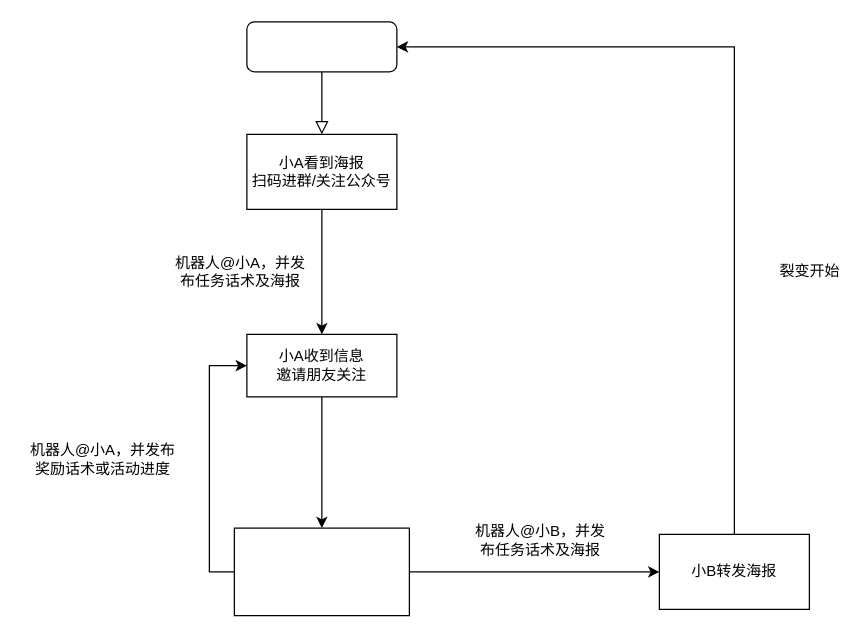
Some shapes in this 868 by 638 pixel diagram are drawn without their labels. Each missing label, with the centre of its shape:
小B看到海报 关注公众号/加好友/进群: the point at 321,571
海报曝光: the point at 321,46
